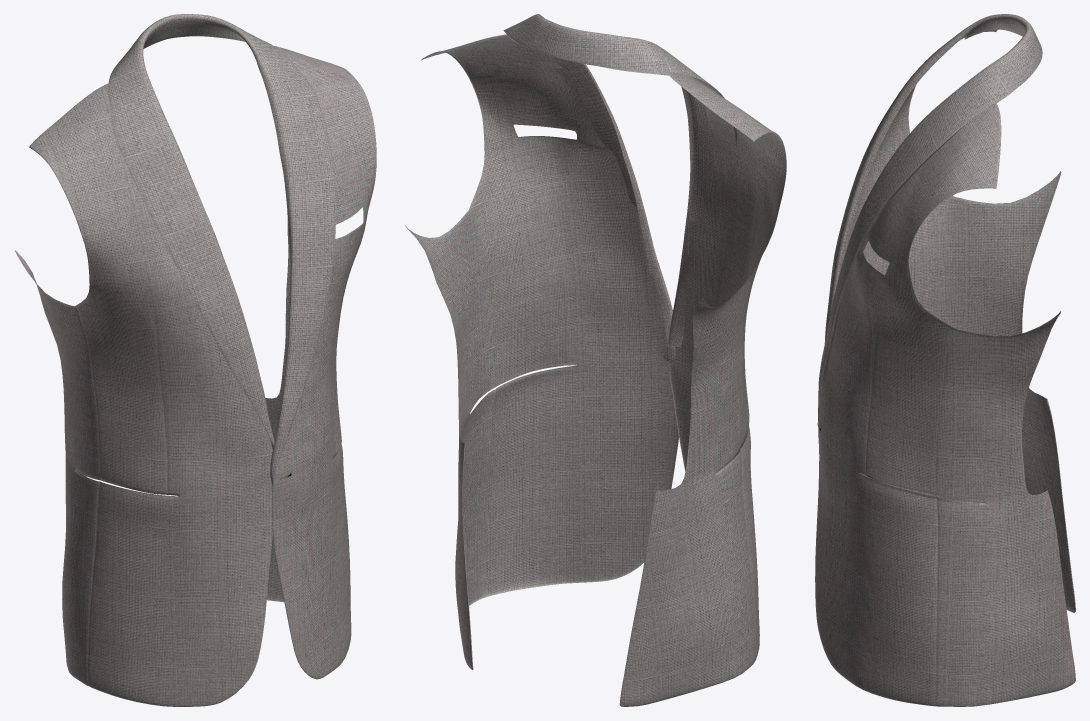
The model's file is shawl_single_button_wide.glb.
3 views of the same model, side by side, from view 1: azimuth 30°, elevation 25°; view 2: azimuth 150°, elevation 25°; view 3: azimuth 270°, elevation 25° (orthographic). The views are drawn at different scales.
Visible parts, largest first — view 1: shawl_single_button_wide; view 2: shawl_single_button_wide; view 3: shawl_single_button_wide.
Part boxes in pixels (bbox=[...]): shawl_single_button_wide: bbox=[14, 14, 376, 706]; shawl_single_button_wide: bbox=[405, 14, 786, 706]; shawl_single_button_wide: bbox=[815, 14, 1075, 706].
Size of the model in its own units: 0.0585 by 0.108 by 0.0411.
3 materials, 3 textured.
